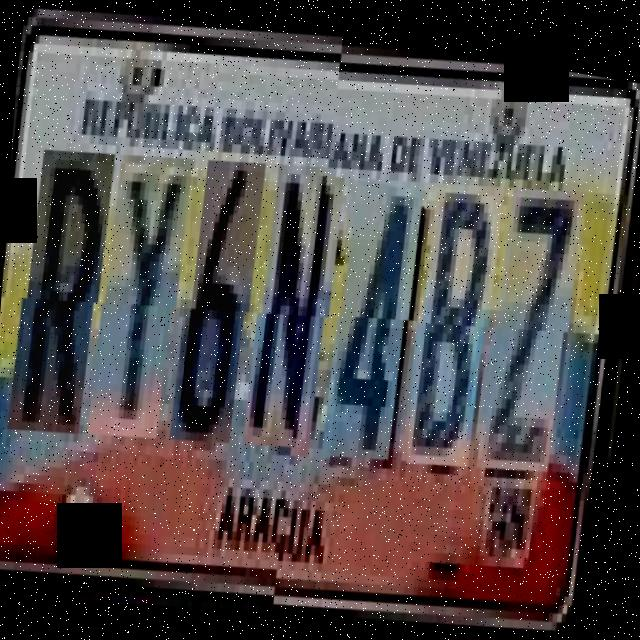4: (329, 170, 425, 472)
6: (178, 161, 266, 461)
B: (409, 175, 505, 477)
N: (250, 165, 346, 467)
R: (15, 150, 115, 452)
Y: (95, 155, 195, 457)
Z: (484, 180, 584, 482)
